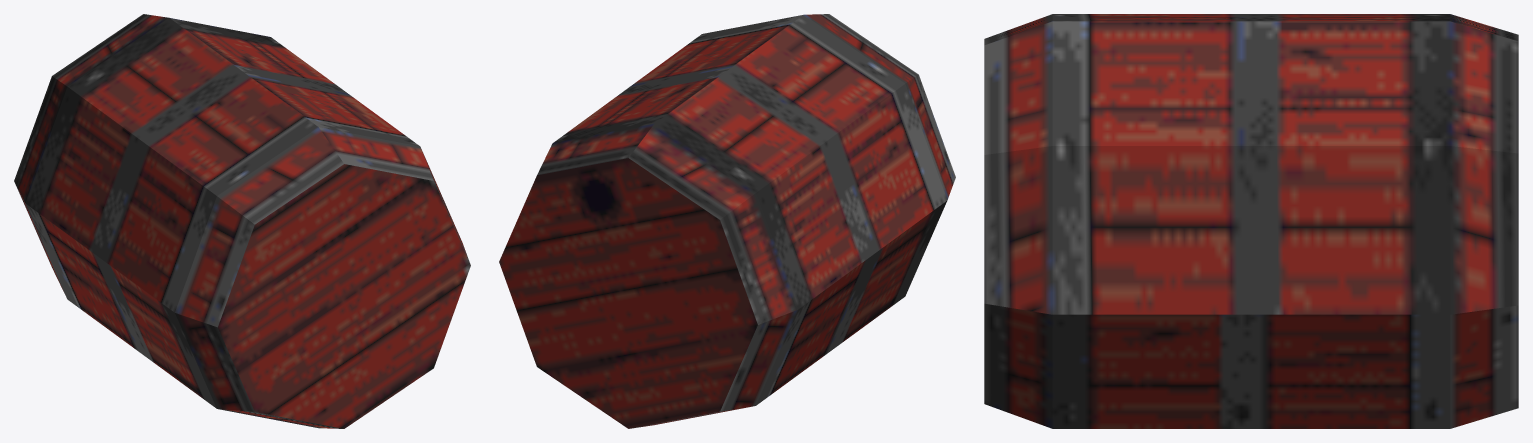
The model's file is barrel.fbx.
3 views of the same model, side by side, from view 1: azimuth 30°, elevation 25°; view 2: azimuth 150°, elevation 25°; view 3: azimuth 270°, elevation 25° (orthographic). The views are drawn at different scales.
Parts seen in each view (by area): view 1: barrel; view 2: barrel; view 3: barrel.
Part boxes in pixels (x1,y1,x2,y2): barrel: (14,14,470,428); barrel: (499,14,955,428); barrel: (984,14,1518,428).
Bounding box in the file's own units: 100 × 100 × 121.
